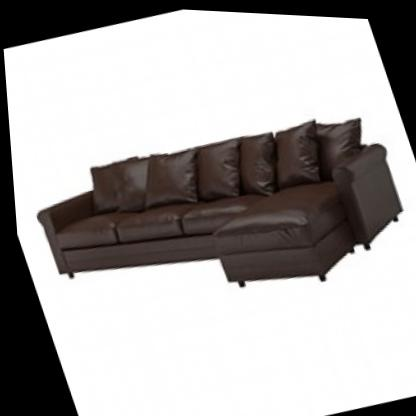Sofa: (4, 64, 416, 354)
